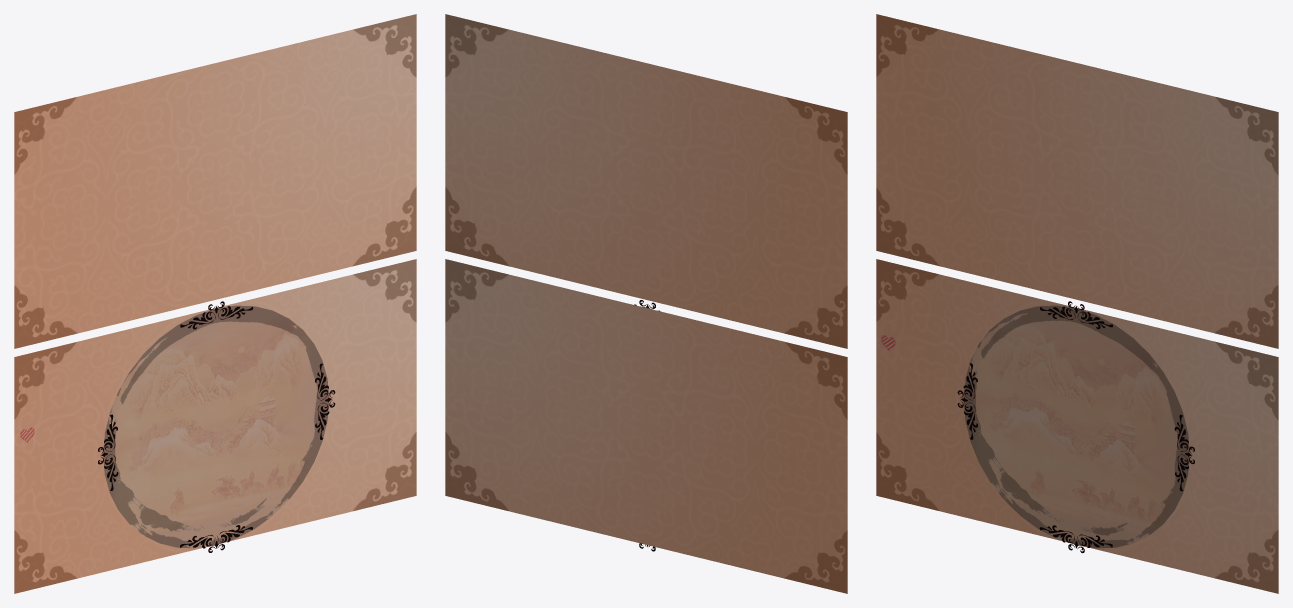
Rendered from scene_chusai.FBX.
3 views of the same model, side by side, from view 1: azimuth 30°, elevation 25°; view 2: azimuth 150°, elevation 25°; view 3: azimuth 330°, elevation 25° (orthographic).
Visible parts, largest first — view 1: scene002, scene01, yuan, gedang01, gedang04, gedang02; view 2: scene01, scene002; view 3: scene002, scene01, yuan, gedang03, gedang04, gedang02.
Boxes of the visible parts, box(x1,y1,x2,y2) form: scene002: box(14, 14, 416, 348); scene01: box(14, 259, 416, 593); yuan: box(103, 305, 329, 548); gedang01: box(180, 301, 253, 329); gedang04: box(314, 363, 335, 439); gedang02: box(98, 414, 118, 490); scene01: box(445, 259, 847, 593); scene002: box(445, 14, 847, 348); scene002: box(876, 14, 1278, 348); scene01: box(876, 259, 1278, 593); yuan: box(963, 305, 1189, 548); gedang03: box(1039, 525, 1112, 553); gedang04: box(1174, 414, 1194, 491); gedang02: box(957, 363, 978, 439).
Size of the model in its own units: 1280 by 1499 by 6.
4 materials, 4 textured.
